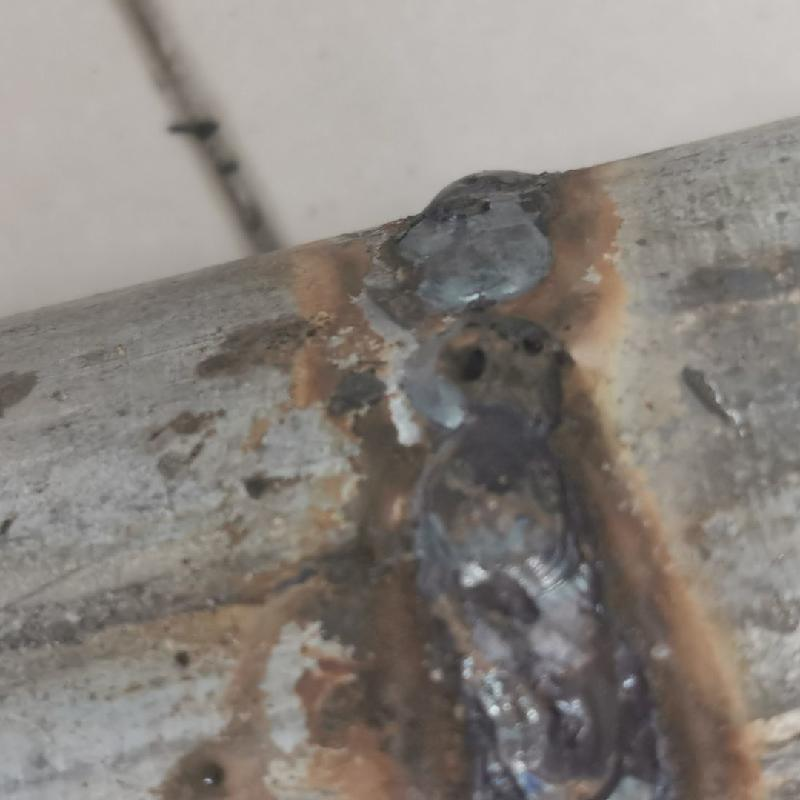Surface_pores: (442, 300, 563, 394)
wrong_size: (358, 131, 586, 592)
